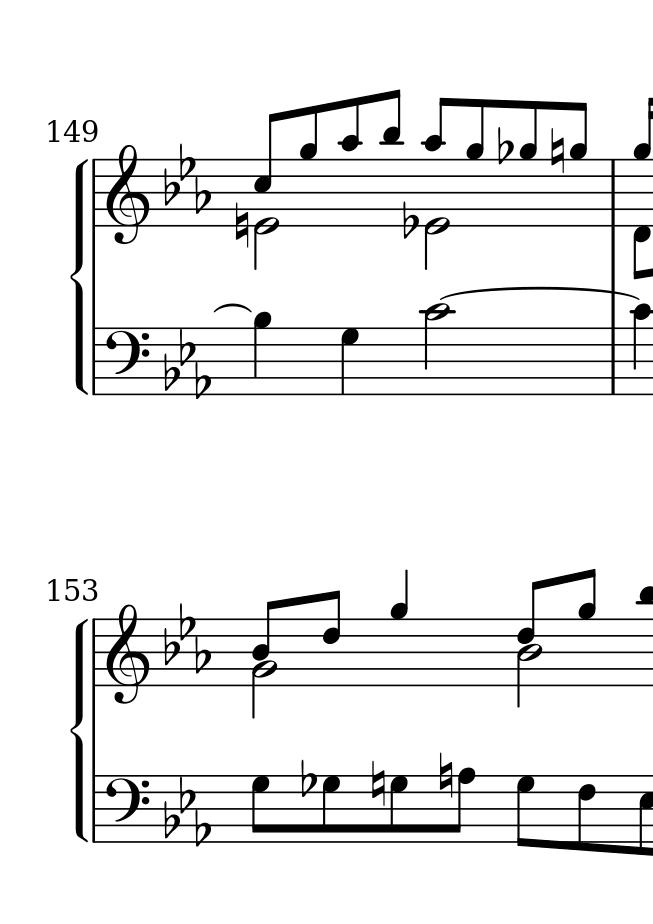1: (46, 119, 61, 146), (47, 578, 60, 604)
2_0: (423, 158, 450, 272)
2_10: (423, 302, 450, 398)
3: (79, 577, 100, 603)
4: (63, 119, 80, 145)
4_10: (629, 304, 653, 396)
4_7: (339, 325, 362, 396)
4_9: (390, 568, 410, 688), (253, 309, 272, 398)
5: (62, 578, 80, 605)
8_10: (423, 97, 453, 226), (338, 97, 361, 227)
8_11: (382, 90, 401, 229)
8_6: (321, 590, 342, 688), (576, 772, 597, 855)
8_7: (515, 773, 537, 849), (320, 775, 343, 844), (388, 775, 411, 844), (251, 776, 273, 845)
8_8: (449, 766, 477, 844)
8_9: (466, 98, 486, 227), (299, 105, 319, 227), (520, 100, 538, 227), (570, 101, 588, 228), (578, 567, 596, 687)
9: (81, 118, 98, 145)
Brace: (69, 156, 89, 395), (71, 618, 88, 841)
E_F: (161, 601, 211, 677), (163, 777, 214, 851), (163, 326, 212, 400), (163, 140, 211, 215)
Fclef: (104, 326, 150, 396), (104, 774, 149, 844)
Flat: (401, 200, 418, 240), (299, 757, 315, 798), (496, 125, 512, 165)
Gclef: (105, 140, 149, 247), (106, 599, 149, 706)
Natural: (549, 125, 566, 177), (233, 201, 250, 250), (369, 759, 386, 808), (437, 751, 454, 800)
Single_barline: (606, 327, 623, 392), (88, 618, 103, 688), (88, 160, 103, 227), (606, 161, 621, 225), (88, 328, 102, 394), (88, 777, 102, 842)
Slur: (441, 287, 643, 300), (214, 301, 250, 314)
